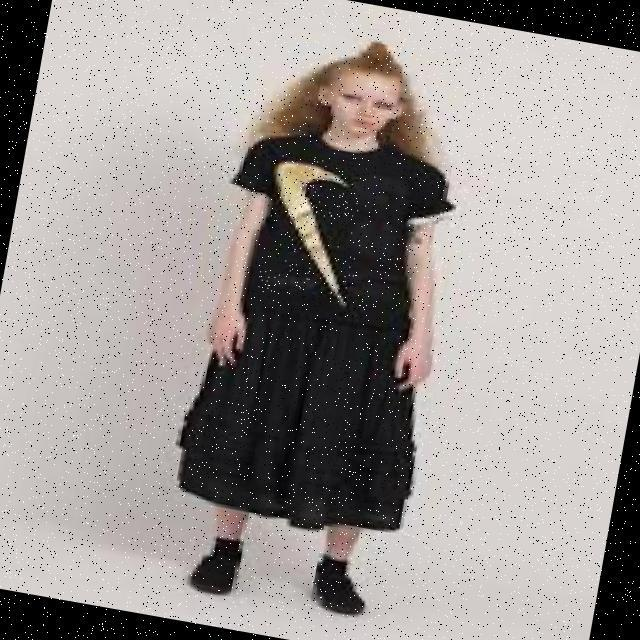Nike: (256, 151, 377, 308)
